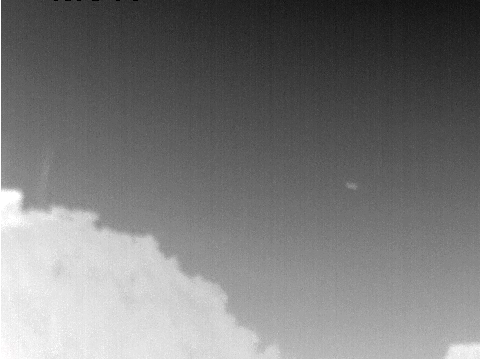dim target: (344, 182, 357, 190)
